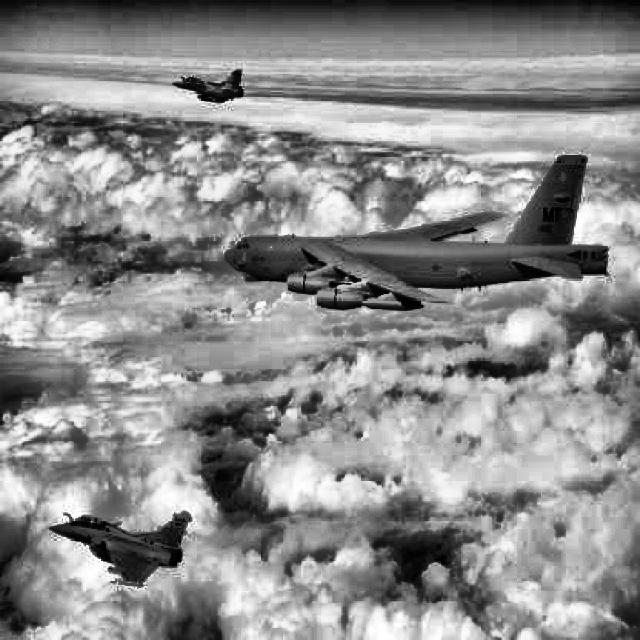B52: (224, 154, 608, 312)
Mirage2000: (171, 68, 244, 103)
Rafale: (48, 510, 192, 590)
